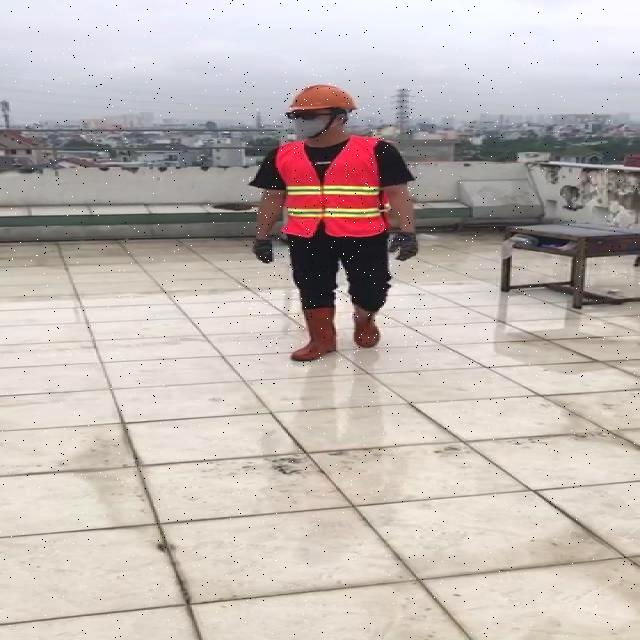boots: (292, 305, 342, 362), (350, 304, 384, 349)
helmet: (288, 84, 360, 112)
vest: (278, 140, 386, 239)
